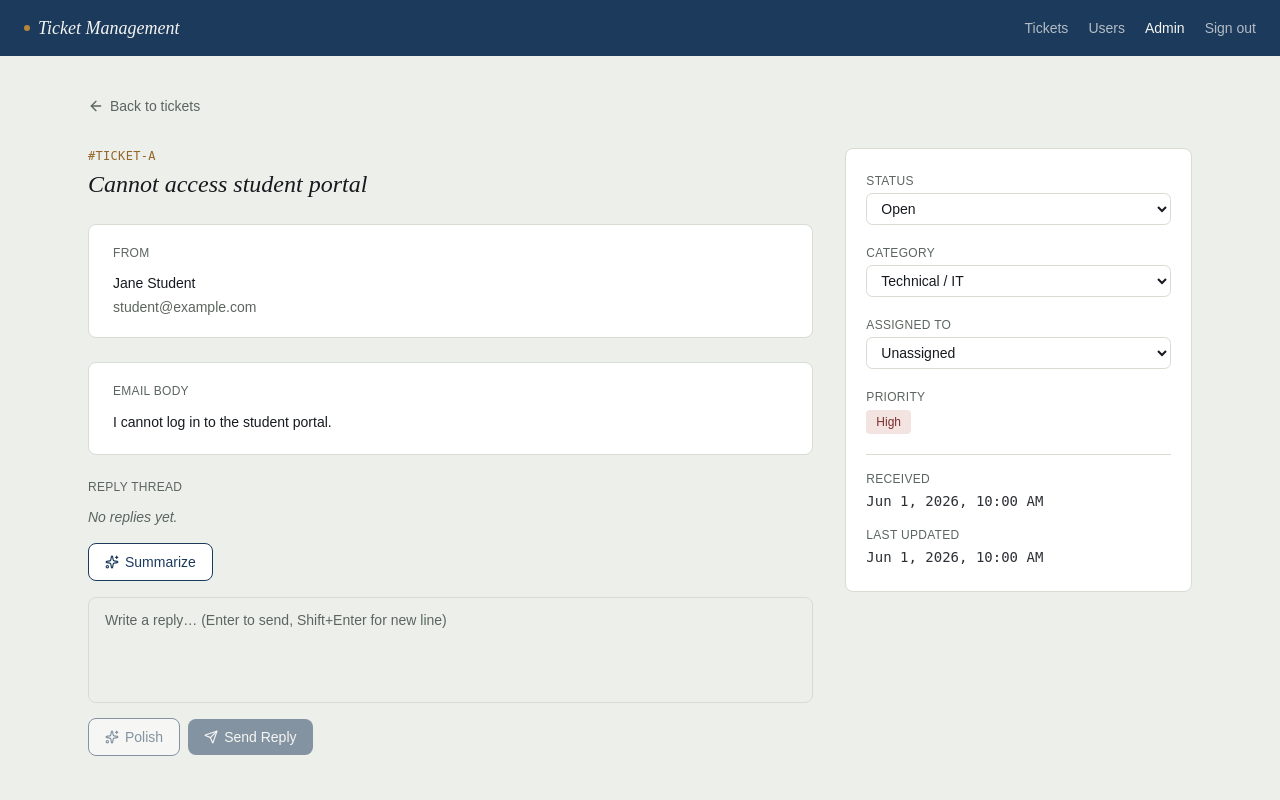
Test: TicketDetailPage › reply thread › reply form › disables the button while the POST is in flight
Expected: the heading "Cannot access student portal" is shown, [88,171,367,197]
Type "Sending…" into the text box with placeholder "Write a reply… (Enter to send, Shift+Enter for new line)" at (451, 650), box [88,597,813,703]
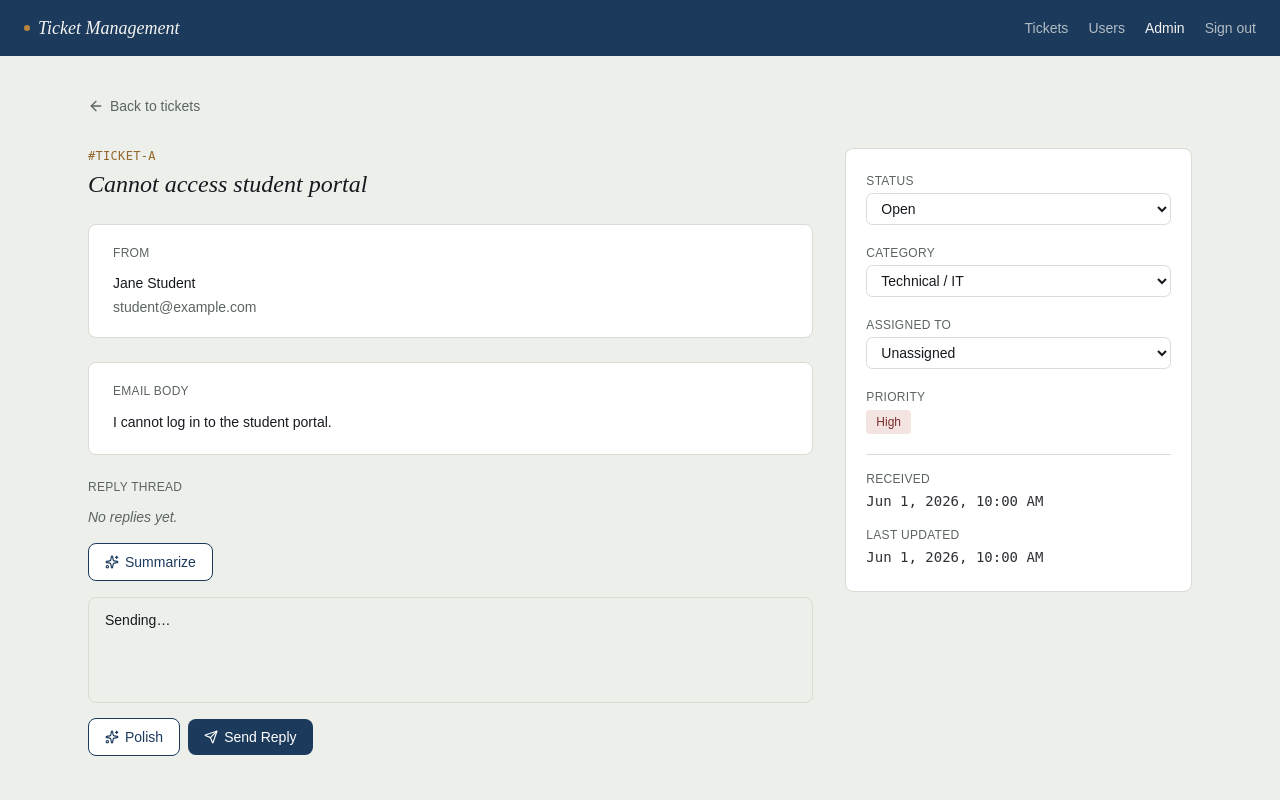
Click the button "Send Reply" at (250, 737), box [188,719,312,755]
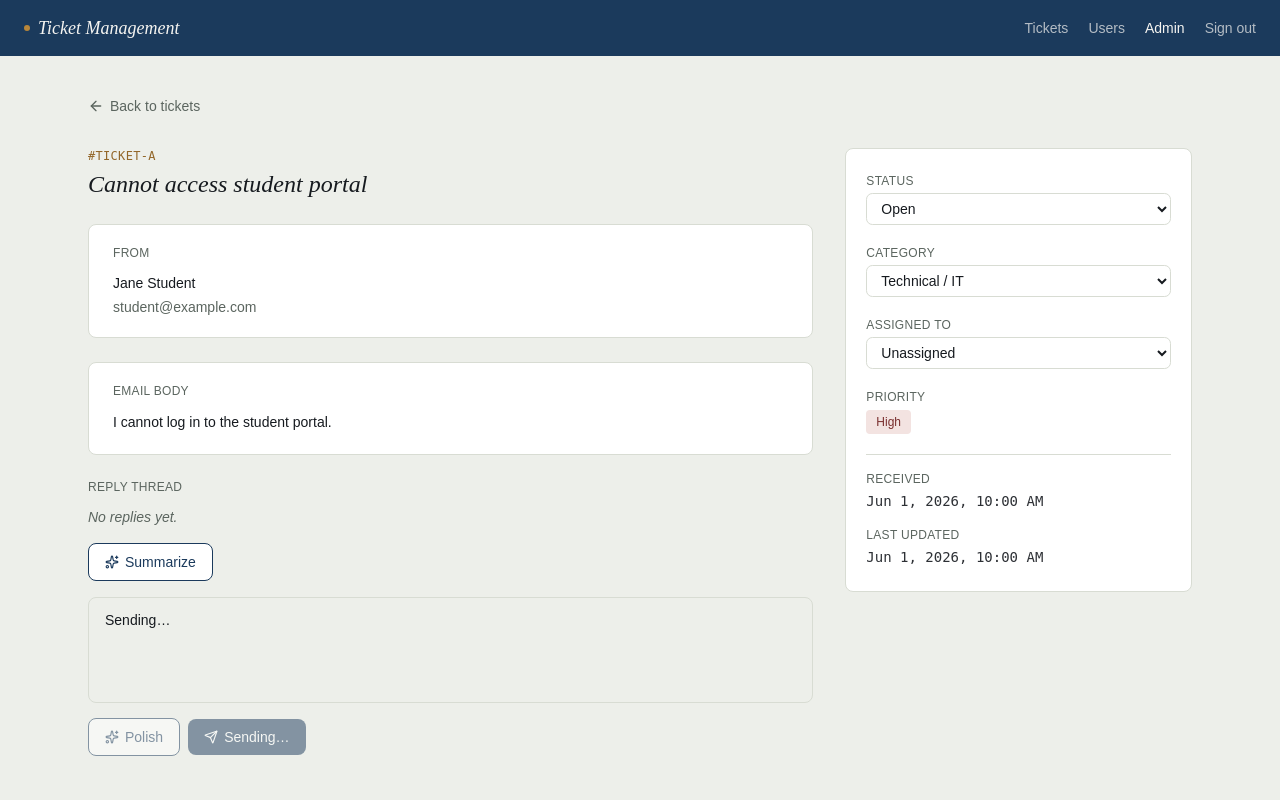
Now the button named "send reply" is disabled, box [188,719,306,755]
